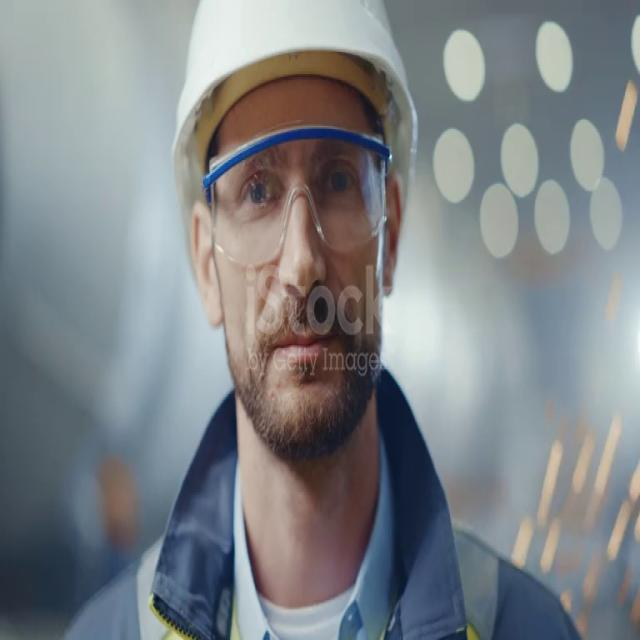capacete: (146, 6, 442, 278)
